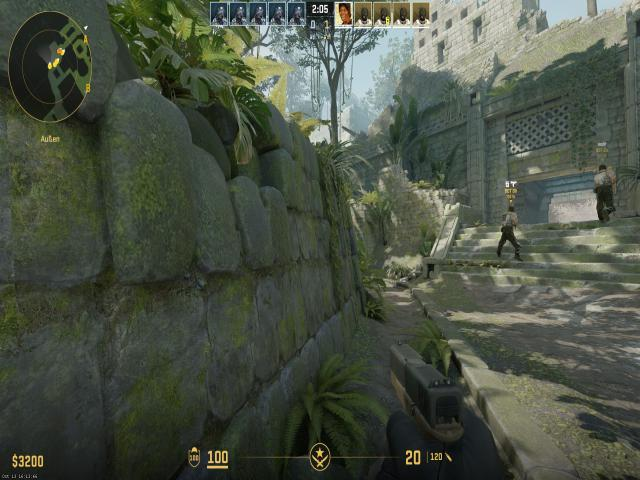T: (590, 159, 616, 227), (496, 198, 520, 265)
T-Head: (595, 162, 609, 174), (507, 204, 516, 213)
